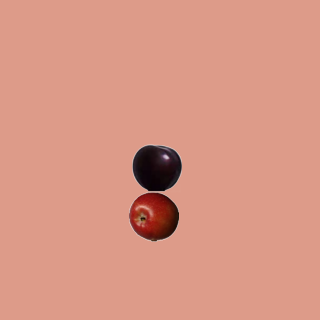Apple Braeburn: (128, 191, 178, 241)
Cherry Wax Black: (131, 142, 181, 192)
